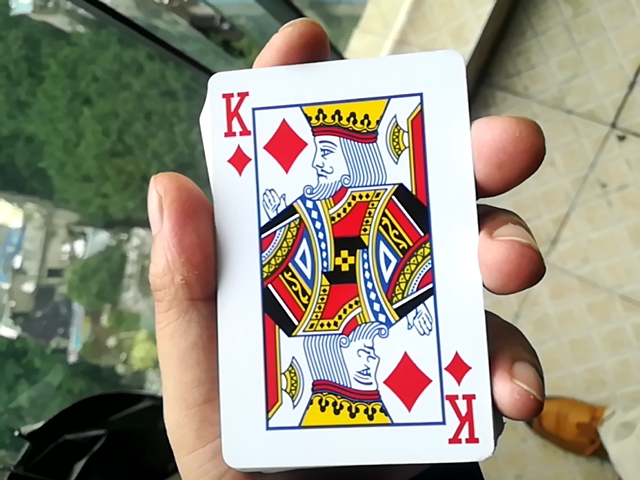fk k: (191, 40, 499, 466)
